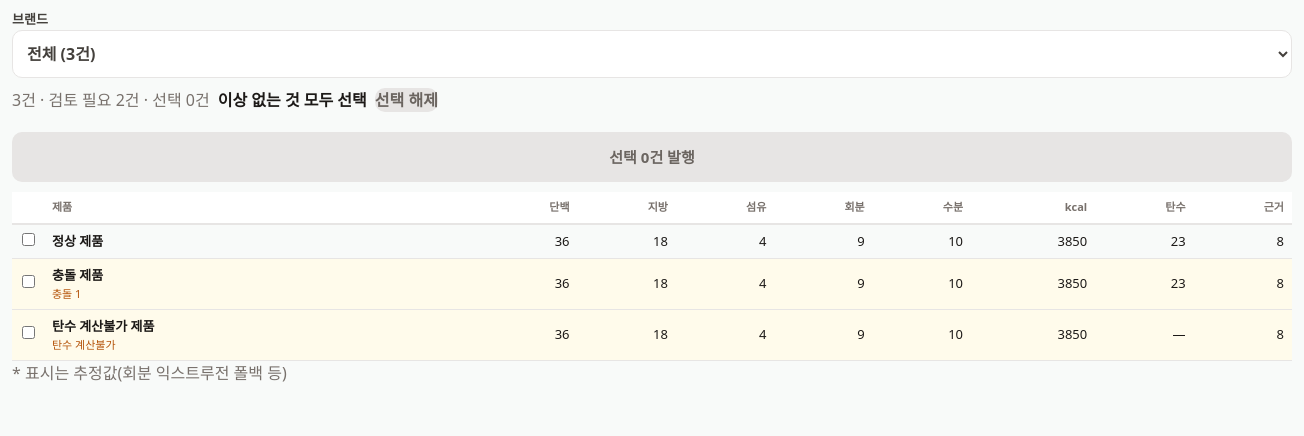
Test case: PublicationReviewClient › 충돌 값을 펼쳐서 양쪽 수치를 보여준다
Click the button "충돌 제품": (78, 276) [52, 266, 103, 286]
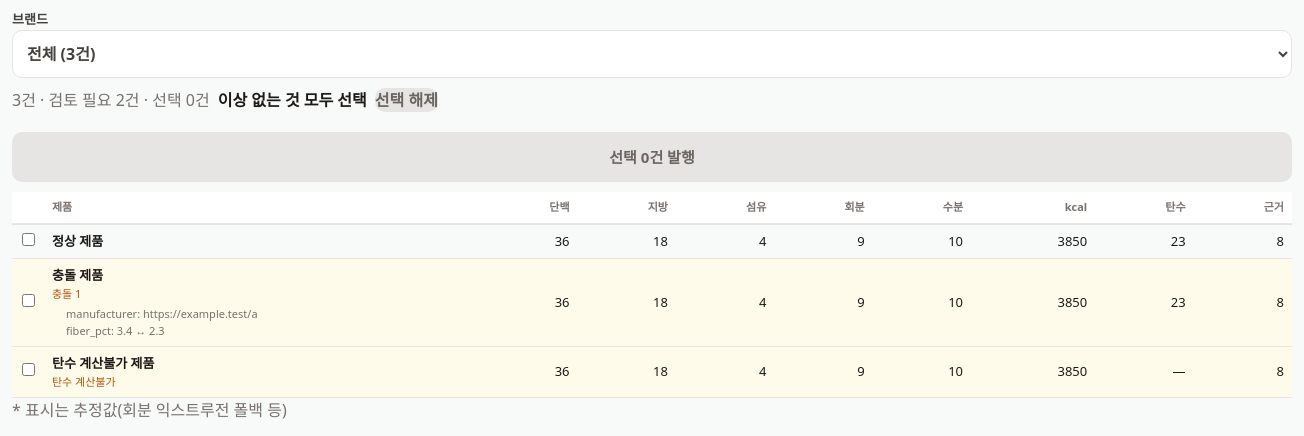
expect the list item "fiber_pct: 3.4 ↔ 2.3" is shown: met, box [66, 322, 165, 338]
